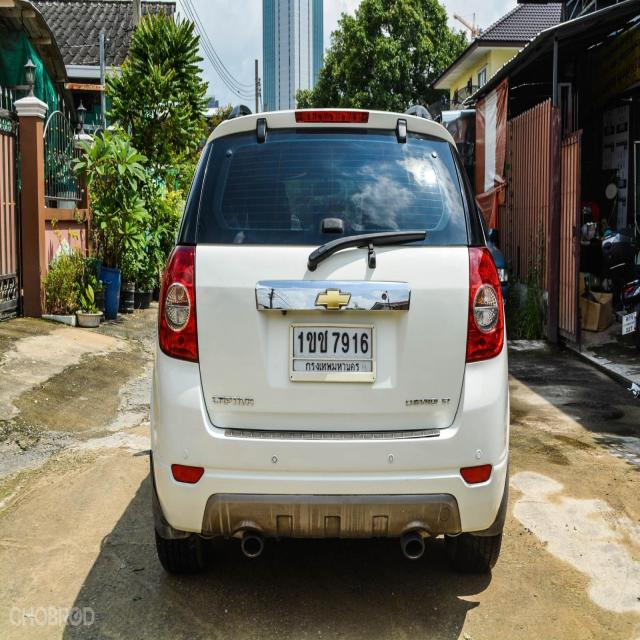license_plate: (289, 320, 376, 386)
